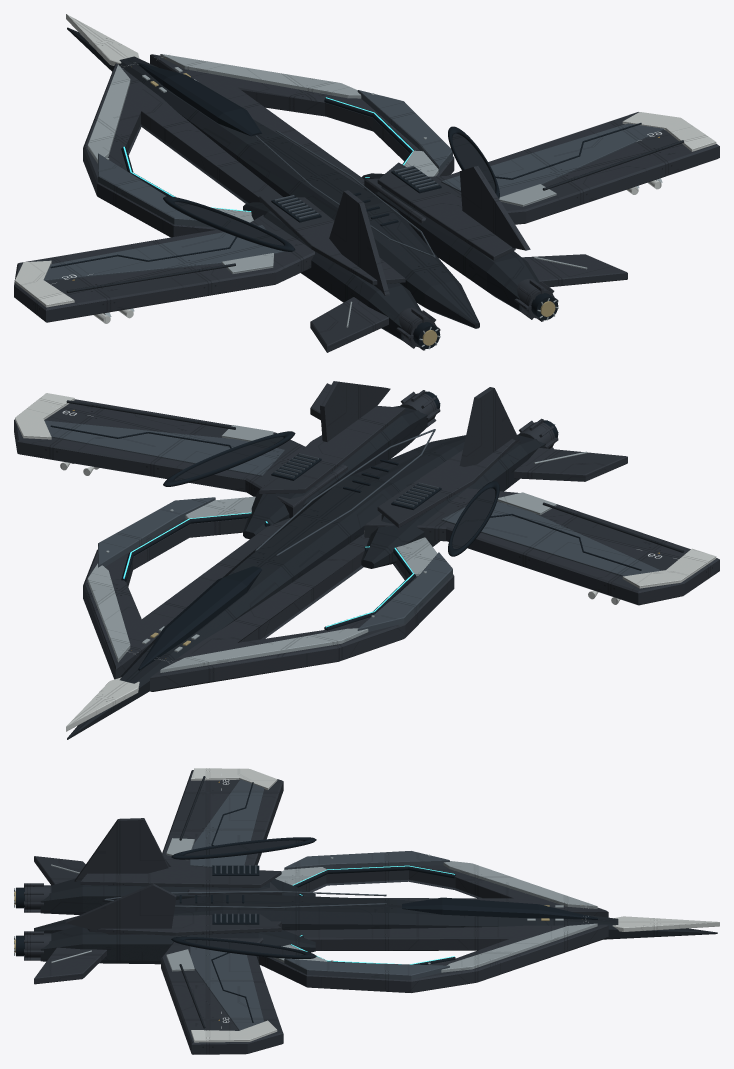
The model's file is xuannv-reconstruction.glb.
3 renders of one model, top to bottom at view 1: azimuth 30°, elevation 25°; view 2: azimuth 150°, elevation 25°; view 3: azimuth 270°, elevation 25°, orthographic. The views are drawn at different scales.
Visible parts, largest first — view 1: xuannv-armour, xuannv-hull, xuannv-panel, xuannv-dark, xuannv-edge, xuannv-white; view 2: xuannv-armour, xuannv-hull, xuannv-panel, xuannv-dark, xuannv-edge, xuannv-white; view 3: xuannv-armour, xuannv-hull, xuannv-panel, xuannv-dark, xuannv-edge, xuannv-white.
Boxes of the visible parts, x1,y1,x2,y2 form: xuannv-armour: (14,54,719,352); xuannv-hull: (66,27,683,340); xuannv-panel: (44,90,663,280); xuannv-dark: (50,63,641,348); xuannv-edge: (87,54,662,349); xuannv-white: (15,14,716,323); xuannv-armour: (14,381,719,691); xuannv-hull: (66,400,684,739); xuannv-panel: (44,420,660,631); xuannv-dark: (50,391,641,670); xuannv-edge: (87,391,587,672); xuannv-white: (15,393,716,731); xuannv-armour: (24,770,608,1054); xuannv-hull: (34,776,717,1028); xuannv-panel: (104,779,449,1030); xuannv-dark: (16,782,597,1022); xuannv-edge: (14,838,597,972); xuannv-white: (191,768,719,1042).
Bounding box in the file's own units: 7.88 × 1.26 × 8.57.
Materials: 9 (6 with a texture image).
